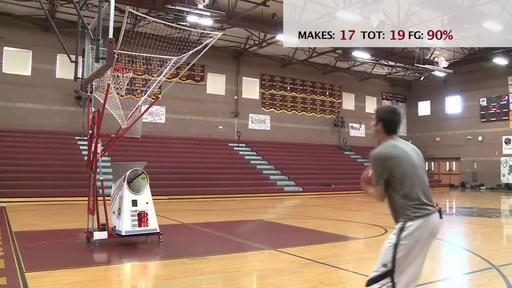ball: (358, 166, 382, 190)
human: (366, 105, 444, 288)
rim: (106, 63, 132, 93)
